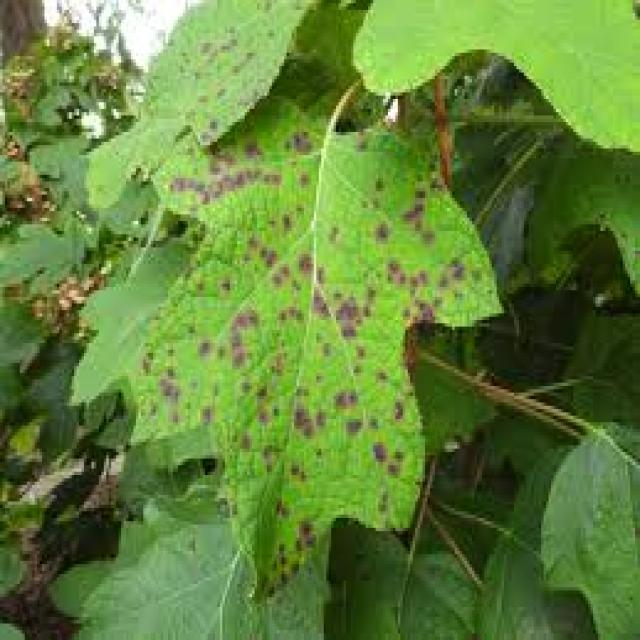leaf_spot: (184, 147, 486, 563), (96, 11, 310, 186)
